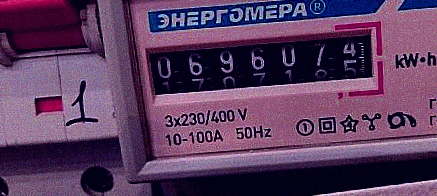0: (153, 53, 173, 79), (278, 41, 296, 68)
4: (340, 35, 355, 57)
5: (342, 57, 357, 77)
6: (184, 49, 203, 76), (247, 43, 265, 71)
7: (309, 40, 327, 67)
9: (216, 47, 234, 74)
screen: (137, 17, 388, 112)
